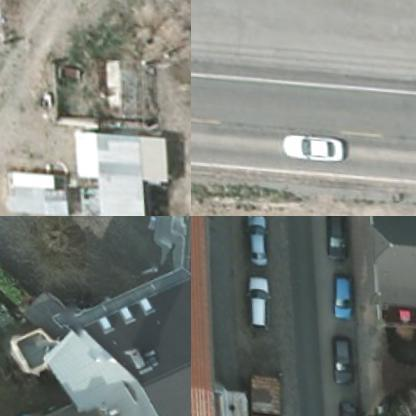car: (274, 130, 343, 164), (239, 274, 272, 332), (325, 332, 355, 386), (241, 216, 272, 266), (326, 266, 354, 318), (320, 216, 354, 258), (329, 396, 360, 415)
